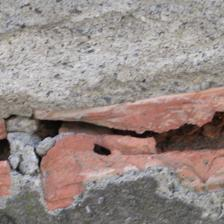Crack: (20, 57, 203, 103)
